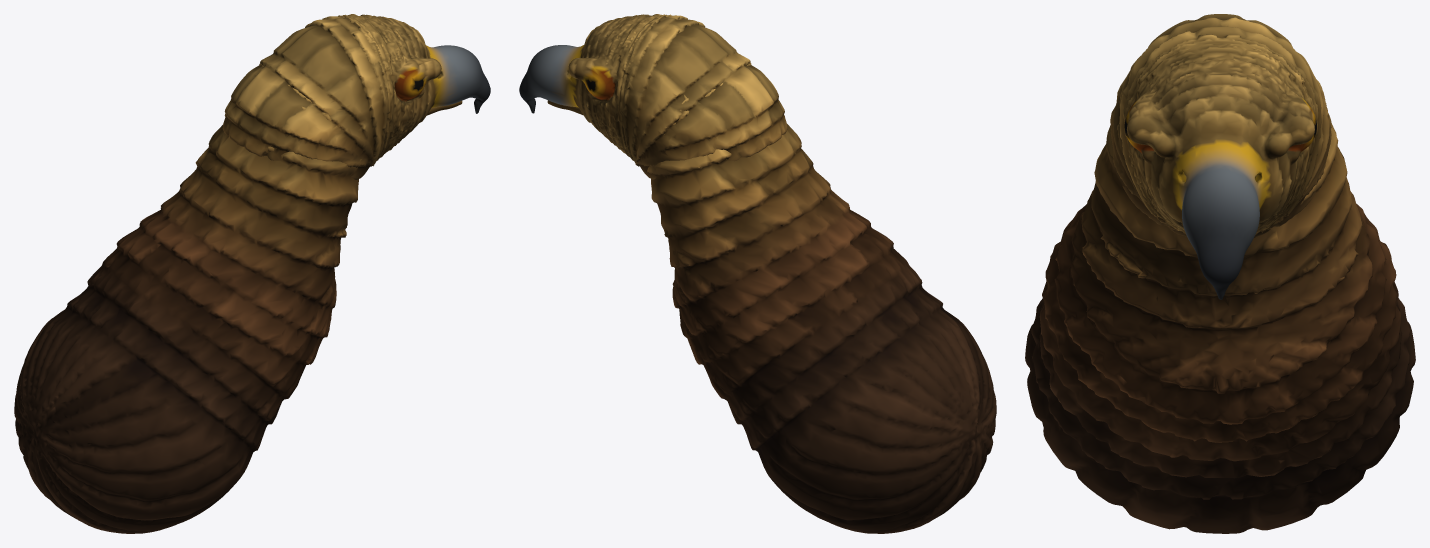
The model's file is env_stage3_eagle.glb.
3 views of the same model, side by side, from view 1: azimuth 30°, elevation 25°; view 2: azimuth 150°, elevation 25°; view 3: azimuth 270°, elevation 25° (orthographic). The views are drawn at different scales.
Parts seen in each view (by area): view 1: eagle_neck, eagle_head; view 2: eagle_neck, eagle_head; view 3: eagle_neck, eagle_head.
Boxes of the visible parts, box(x1,y1,x2,y2) form: eagle_neck: box(14, 63, 358, 533); eagle_head: box(222, 14, 490, 179); eagle_neck: box(647, 63, 996, 533); eagle_head: box(519, 14, 787, 179); eagle_neck: box(1025, 78, 1415, 533); eagle_head: box(1110, 14, 1331, 299).
Bounding box in the file's own units: 7.31 × 6.84 × 3.78.
